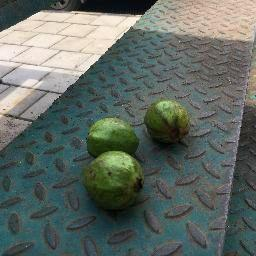guava: (82, 148, 148, 212), (141, 99, 194, 147), (86, 115, 142, 160)
